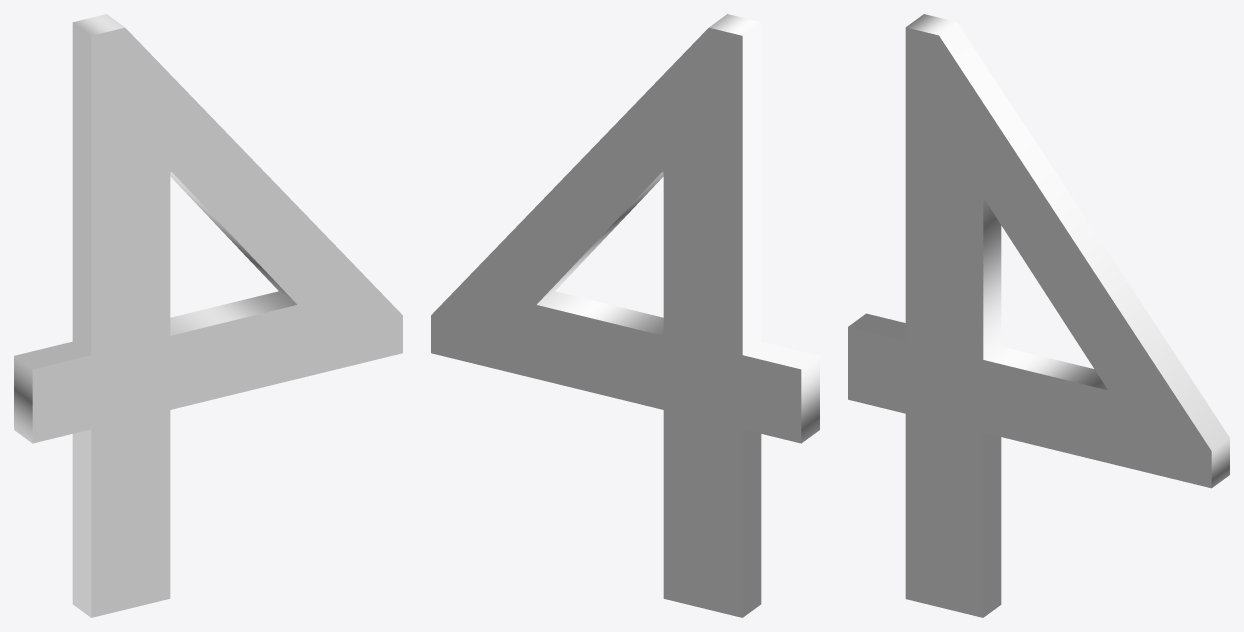
File: Four.obj
3 renders of one model, left to right at view 1: azimuth 30°, elevation 25°; view 2: azimuth 150°, elevation 25°; view 3: azimuth 330°, elevation 25°, orthographic.
Parts seen in each view (by area): view 1: テキスト; view 2: テキスト; view 3: テキスト.
Part boxes in pixels (bbox=[...]): テキスト: bbox=[14, 14, 402, 617]; テキスト: bbox=[431, 14, 819, 617]; テキスト: bbox=[848, 14, 1229, 617].
Bounding box in the file's own units: 0.46 × 0.691 × 0.04.
Materials: 1 (1 with a texture image).
